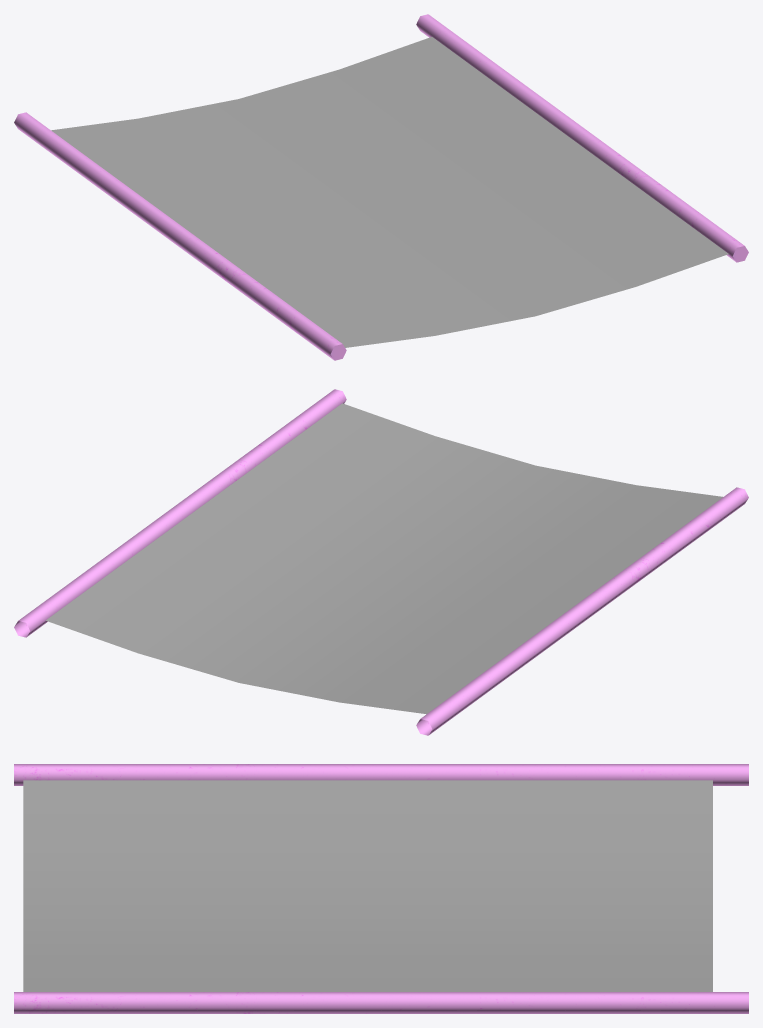
The model's file is SideNetting_01_SM_Low.fbx.
3 views of the same model, one above another, from view 1: azimuth 30°, elevation 25°; view 2: azimuth 150°, elevation 25°; view 3: azimuth 270°, elevation 25° (orthographic). The views are drawn at different scales.
Parts seen in each view (by area): view 1: Netting_Geo, SupportArm_Geo, SupportArm_Geo1; view 2: Netting_Geo, SupportArm_Geo, SupportArm_Geo1; view 3: Netting_Geo, SupportArm_Geo1, SupportArm_Geo.
Boxes of the visible parts, bbox=[...] form: Netting_Geo: bbox=[51, 37, 728, 347]; SupportArm_Geo: bbox=[14, 112, 346, 360]; SupportArm_Geo1: bbox=[416, 14, 748, 262]; Netting_Geo: bbox=[46, 403, 722, 714]; SupportArm_Geo: bbox=[416, 487, 748, 735]; SupportArm_Geo1: bbox=[14, 389, 346, 637]; Netting_Geo: bbox=[23, 780, 712, 991]; SupportArm_Geo1: bbox=[14, 992, 748, 1013]; SupportArm_Geo: bbox=[14, 764, 748, 785].
Bounding box in the file's own units: 416 × 22.21 × 545.
Materials: 2 (1 with a texture image).
